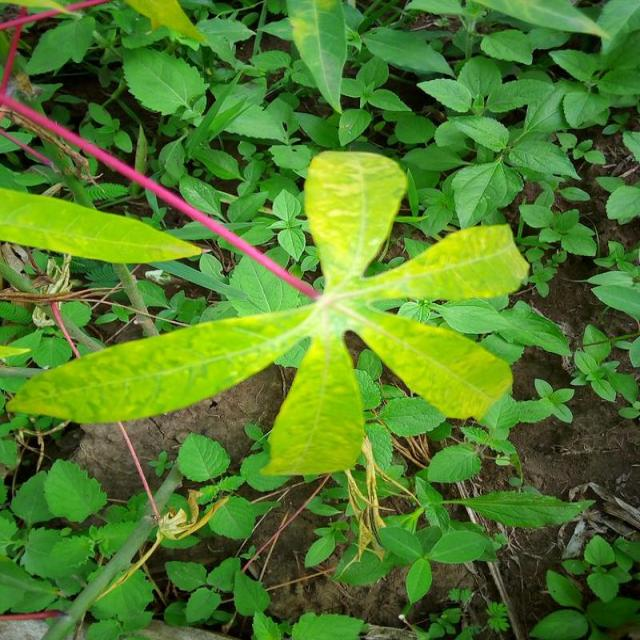cassava leaf: (6, 147, 530, 478), (0, 186, 204, 264)
